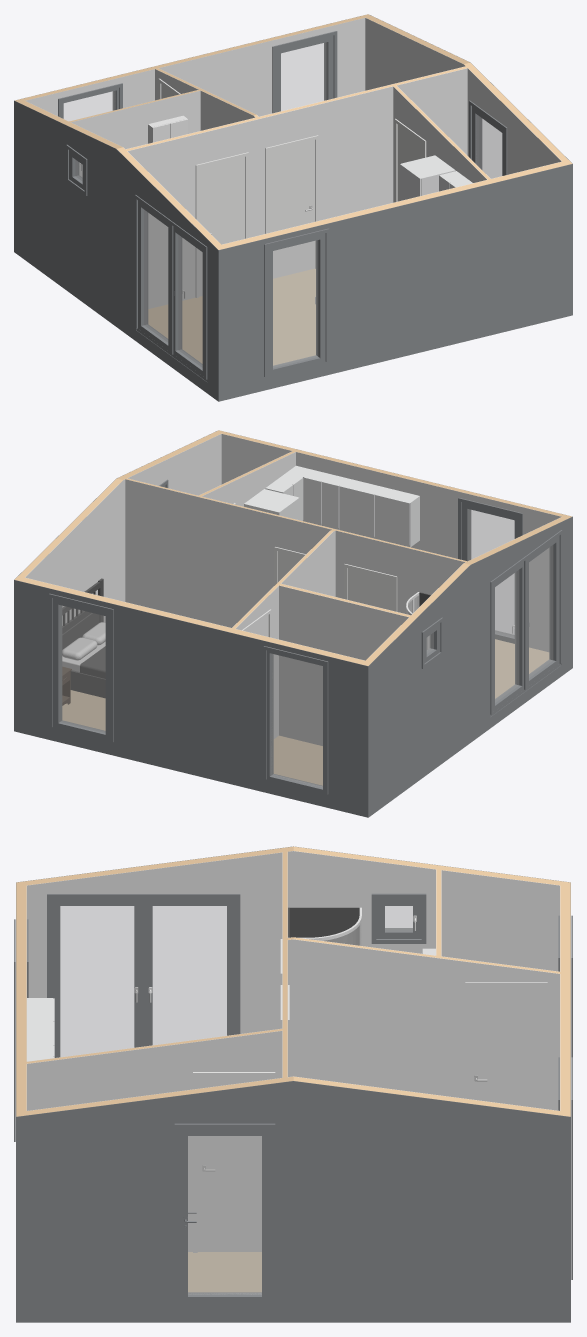
The model's file is Airija_Janelle_(6,0x6,0m)_R00.fbx.
3 renders of one model, top to bottom at view 1: azimuth 30°, elevation 25°; view 2: azimuth 150°, elevation 25°; view 3: azimuth 270°, elevation 25°, orthographic. The views are drawn at different scales.
Visible parts, largest first — view 1: IfcWall/Part:2319977, IfcWall/Part:2583002, IfcWall/Part:2599078, IfcWall/Part:2397154, IfcWindow/Windows (Akrusta):1000x2100x120 (dešininis):258364, IfcWall/Part:2397151, IfcDoor/Interior Door:800x2100 x 120 (dešininės):2598756, IfcSlab/Part:2319985, IfcWindow/Windows (Akrusta):1000x2100x120 (dešininis):260117, IfcWindow/Windows (Akrusta):1000x2100x120 (kairinis):2583512, IfcDoor/Interior Door:800x2100 x 120 (kairinės):2597636, IfcWindow/Windows (Akrusta):1000x2100x120 (dešininis):260122 (+16 smaller); view 2: IfcWall/Part:2397155, IfcWall/Part:2583002, IfcWall/Part:2566165, IfcWall/Part:2596631, IfcWall/Part:2397151, IfcWall/Part:2319976, IfcWindow/Windows (Akrusta):1000x2100x120:2601946, IfcWindow/Windows (Akrusta):1000x2100x120 (dešininis):260122, IfcWindow/Windows (Akrusta):1000x2100x120 (kairinis):2583512, IfcWindow/Windows (Akrusta):1000x2100x120 (dešininis):260117, IfcWall/Part:2584739, IfcSlab/Part:2319985 (+20 smaller); view 3: IfcWall/Part:2397152, IfcWall/Part:2583001, IfcWall/Part:2578712, IfcDoor/Exterior Door:1000x2100x120 (dešininės):2599170, IfcWindow/Windows (Akrusta):1000x2100x120 (kairinis):2583512, IfcWindow/Windows (Akrusta):1000x2100x120 (dešininis):260117, IfcWall/Part:2599021, IfcDoor/Interior Door:800x2100 x 120 (kairinės):2597463, IfcDoor/Interior Door:800x2100 x 120 (kairinės):2600210, IfcSlab/Part:2319985, IfcWindow/Windows (Akrusta):500 x 500 x 120:2601977, IfcWall/Part:2397153 (+10 smaller).
Boxes of the visible parts, left/top/right/bottom form: IfcWall/Part:2319977: left=218, top=164, right=572, bottom=401; IfcWall/Part:2583002: left=14, top=100, right=218, bottom=401; IfcWall/Part:2599078: left=127, top=86, right=393, bottom=308; IfcWall/Part:2397154: left=25, top=18, right=365, bottom=116; IfcWindow/Windows (Akrusta):1000x2100x120 (dešininis):258364: left=264, top=228, right=329, bottom=376; IfcWall/Part:2397151: left=365, top=18, right=561, bottom=174; IfcDoor/Interior Door:800x2100 x 120 (dešininės):2598756: left=265, top=135, right=318, bottom=278; IfcSlab/Part:2319985: left=148, top=268, right=315, bottom=365; IfcWindow/Windows (Akrusta):1000x2100x120 (dešininis):260117: left=135, top=195, right=173, bottom=354; IfcWindow/Windows (Akrusta):1000x2100x120 (kairinis):2583512: left=169, top=220, right=207, bottom=379; IfcDoor/Interior Door:800x2100 x 120 (kairinės):2597636: left=195, top=152, right=248, bottom=297; IfcWindow/Windows (Akrusta):1000x2100x120 (dešininis):260122: left=272, top=31, right=337, bottom=113; IfcWall/Part:2397155: left=14, top=580, right=368, bottom=817; IfcWall/Part:2583002: left=368, top=516, right=572, bottom=817; IfcWall/Part:2566165: left=125, top=479, right=331, bottom=627; IfcWall/Part:2596631: left=279, top=585, right=408, bottom=745; IfcWall/Part:2397151: left=25, top=434, right=221, bottom=625; IfcWall/Part:2319976: left=221, top=434, right=561, bottom=651; IfcWindow/Windows (Akrusta):1000x2100x120:2601946: left=263, top=646, right=328, bottom=794; IfcWindow/Windows (Akrusta):1000x2100x120 (dešininis):260122: left=49, top=593, right=113, bottom=742; IfcWindow/Windows (Akrusta):1000x2100x120 (kairinis):2583512: left=524, top=530, right=562, bottom=689; IfcWindow/Windows (Akrusta):1000x2100x120 (dešininis):260117: left=490, top=555, right=528, bottom=714; IfcWall/Part:2584739: left=335, top=530, right=465, bottom=614; IfcSlab/Part:2319985: left=62, top=639, right=549, bottom=785; IfcWall/Part:2397152: left=16, top=1081, right=570, bottom=1322; IfcWall/Part:2583001: left=27, top=851, right=559, bottom=1033; IfcWall/Part:2578712: left=288, top=939, right=559, bottom=1110; IfcDoor/Exterior Door:1000x2100x120 (dešininės):2599170: left=174, top=1123, right=275, bottom=1304; IfcWindow/Windows (Akrusta):1000x2100x120 (kairinis):2583512: left=47, top=894, right=147, bottom=1057; IfcWindow/Windows (Akrusta):1000x2100x120 (dešininis):260117: left=139, top=894, right=240, bottom=1046; IfcWall/Part:2599021: left=27, top=1031, right=282, bottom=1251; IfcDoor/Interior Door:800x2100 x 120 (kairinės):2597463: left=465, top=982, right=547, bottom=1109; IfcDoor/Interior Door:800x2100 x 120 (kairinės):2600210: left=193, top=1072, right=275, bottom=1252; IfcSlab/Part:2319985: left=188, top=1252, right=261, bottom=1292; IfcWindow/Windows (Akrusta):500 x 500 x 120:2601977: left=371, top=893, right=426, bottom=943; IfcWall/Part:2397153: left=16, top=1076, right=560, bottom=1116.
Bounding box in the file's own units: 608 × 288 × 604.
